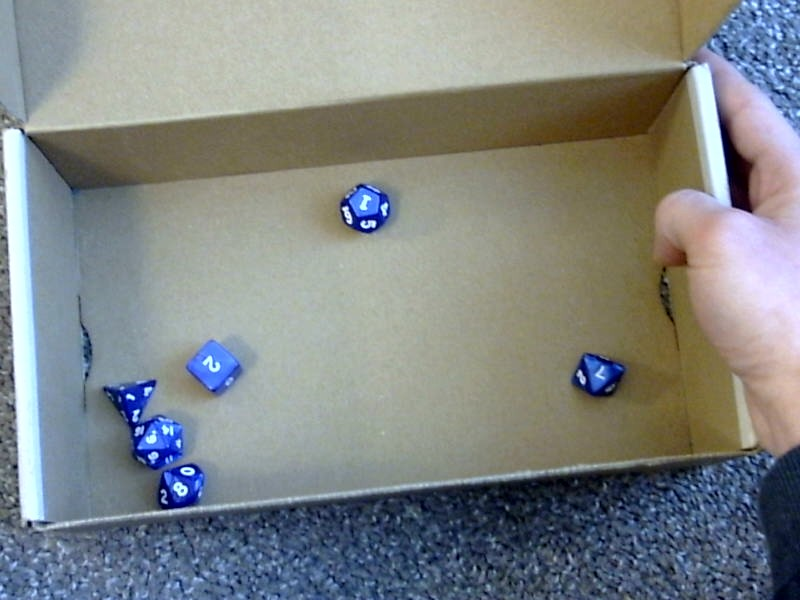d10 8: (152, 463, 210, 512)
d12 1: (333, 180, 392, 236)
d20 6: (122, 413, 185, 471)
d4 1: (92, 378, 156, 426)
d6 2: (177, 333, 245, 397)
d8 7: (566, 346, 626, 402)
